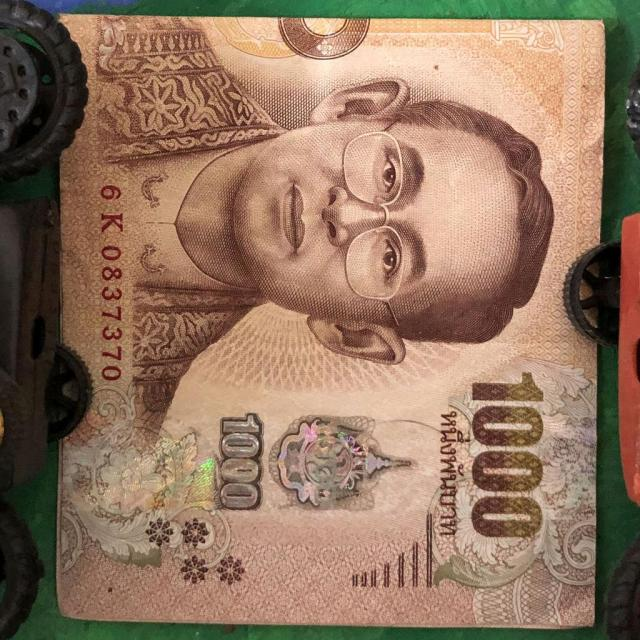THAI1000: (55, 14, 618, 629)
